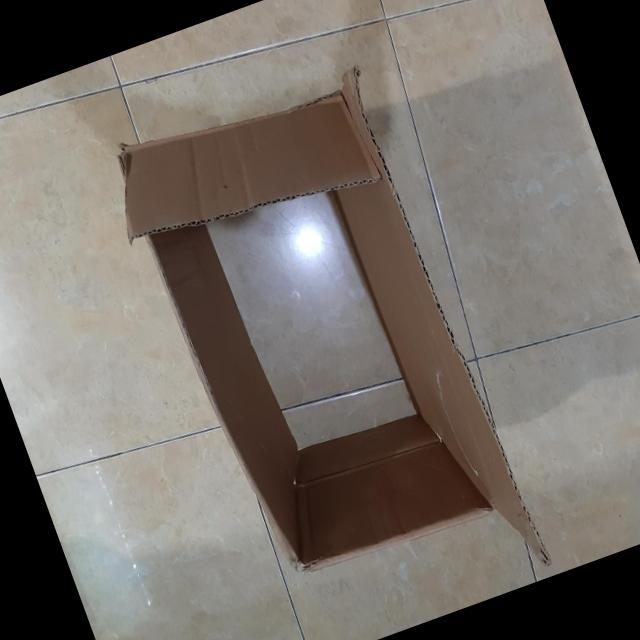Kardus: (96, 55, 553, 640)
